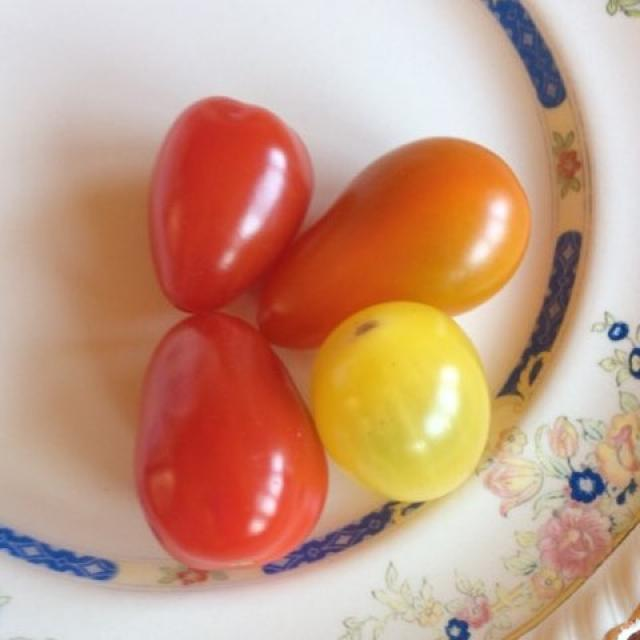tomato-raw: (137, 107, 530, 559)
